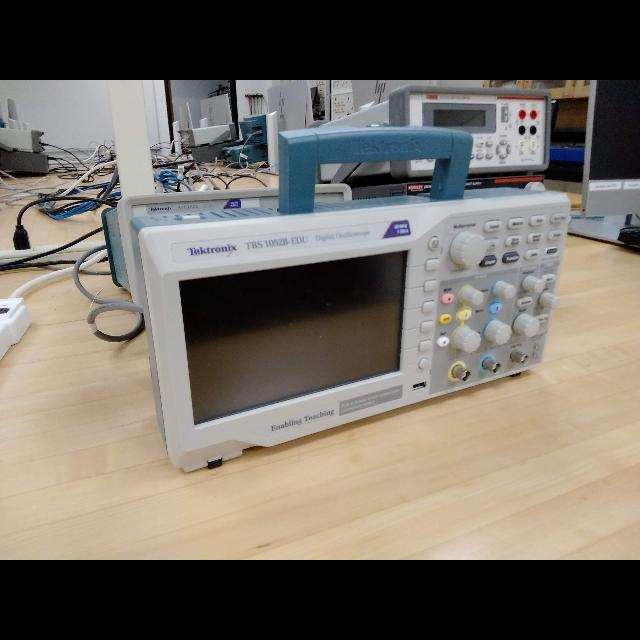Digital-Oscilloscope: (143, 199, 570, 468)
